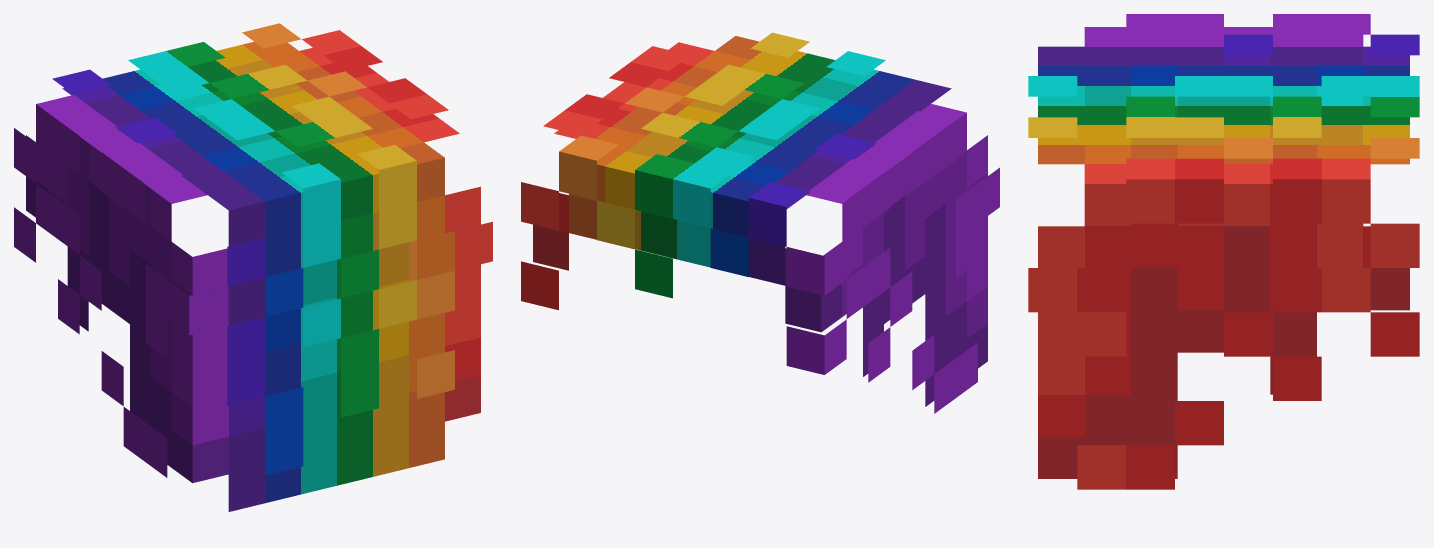
Rendered from clown_hair.gltf.
3 renders of one model, left to right at view 1: azimuth 30°, elevation 25°; view 2: azimuth 150°, elevation 25°; view 3: azimuth 270°, elevation 25°, orthographic. The views are drawn at different scales.
Parts seen in each view (by area): view 1: headcos_layer1, headcos_layer2; view 2: headcos_layer1, headcos_layer2; view 3: headcos_layer1, headcos_layer2.
Boxes of the visible parts, bbox=[...] form: headcos_layer1: bbox=[26, 42, 480, 511]; headcos_layer2: bbox=[14, 23, 492, 477]; headcos_layer1: bbox=[533, 36, 987, 406]; headcos_layer2: bbox=[521, 32, 999, 413]; headcos_layer1: bbox=[1038, 27, 1409, 478]; headcos_layer2: bbox=[1028, 14, 1419, 489].
Size of the model in its own units: 0.625 by 0.625 by 0.625.
1 material, 1 textured.
